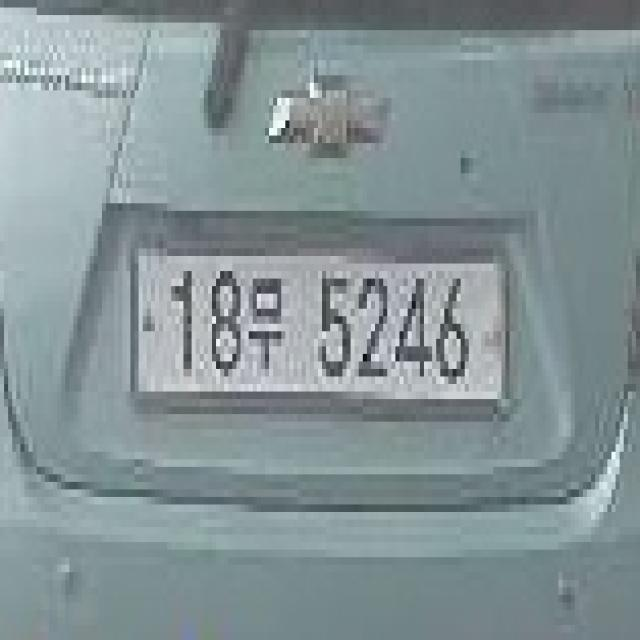plat: (128, 240, 513, 412)
